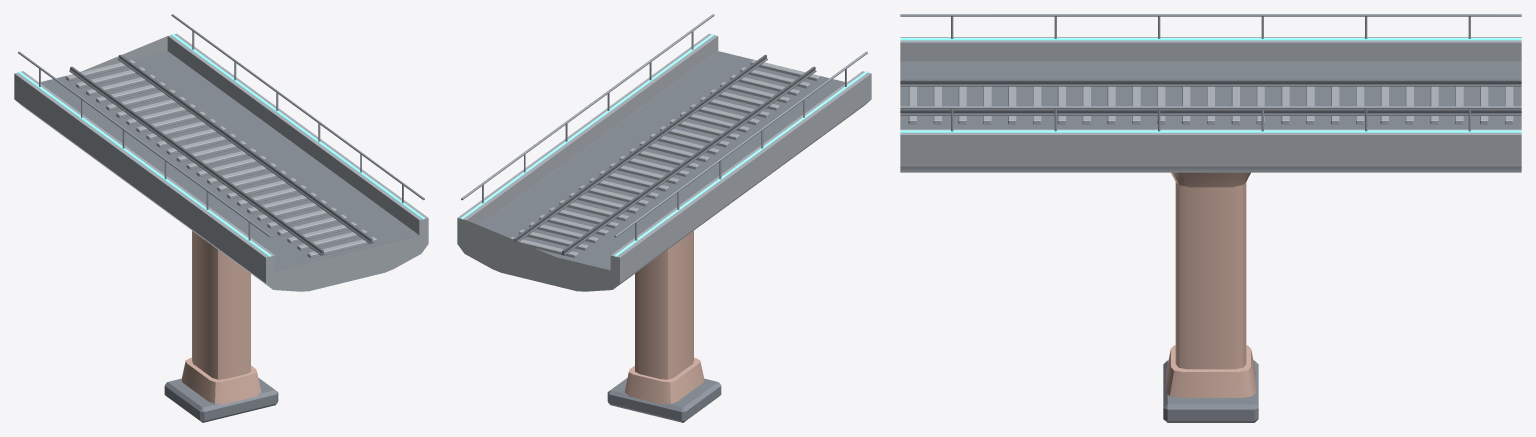
The model's file is trem_tabuleiro_aberto.glb.
3 views of the same model, side by side, from view 1: azimuth 30°, elevation 25°; view 2: azimuth 150°, elevation 25°; view 3: azimuth 270°, elevation 25° (orthographic). The views are drawn at different scales.
Parts seen in each view (by area): view 1: trem_tabuleiro_aberto; view 2: trem_tabuleiro_aberto; view 3: trem_tabuleiro_aberto.
Part boxes in pixels (left/top/right/bottom): trem_tabuleiro_aberto: left=14, top=14, right=428, bottom=422; trem_tabuleiro_aberto: left=457, top=14, right=871, bottom=422; trem_tabuleiro_aberto: left=900, top=14, right=1521, bottom=422.
Size of the model in its own units: 5.6 by 9.08 by 15.
2 materials, 1 textured.
